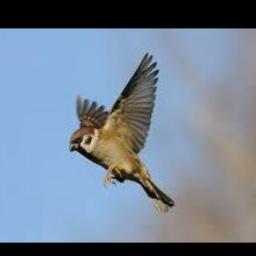Sparrow: (69, 53, 174, 215)
